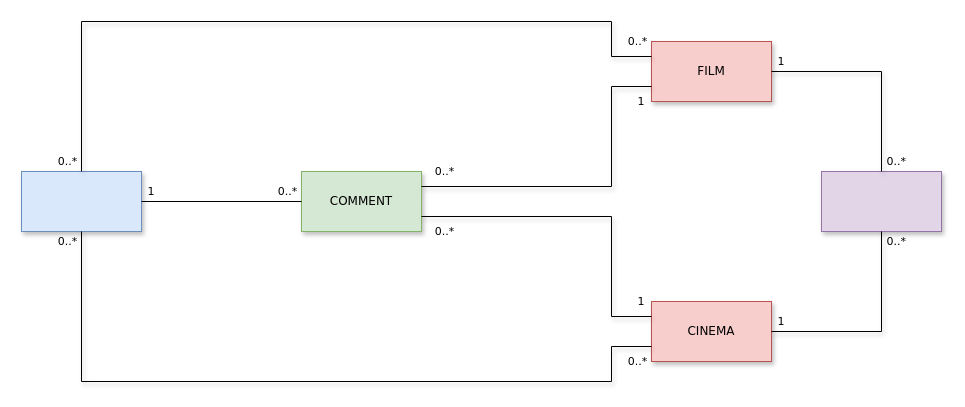
The diagram is 965 pixels wide and 407 high, and some of its shapes have lost their labels. The shapes that lost their labels are listed below. From the top down, each one's centre as x and y in pixels, then its label:
At [82,202]: "USER".
At [882,202]: "PROJECTION".
